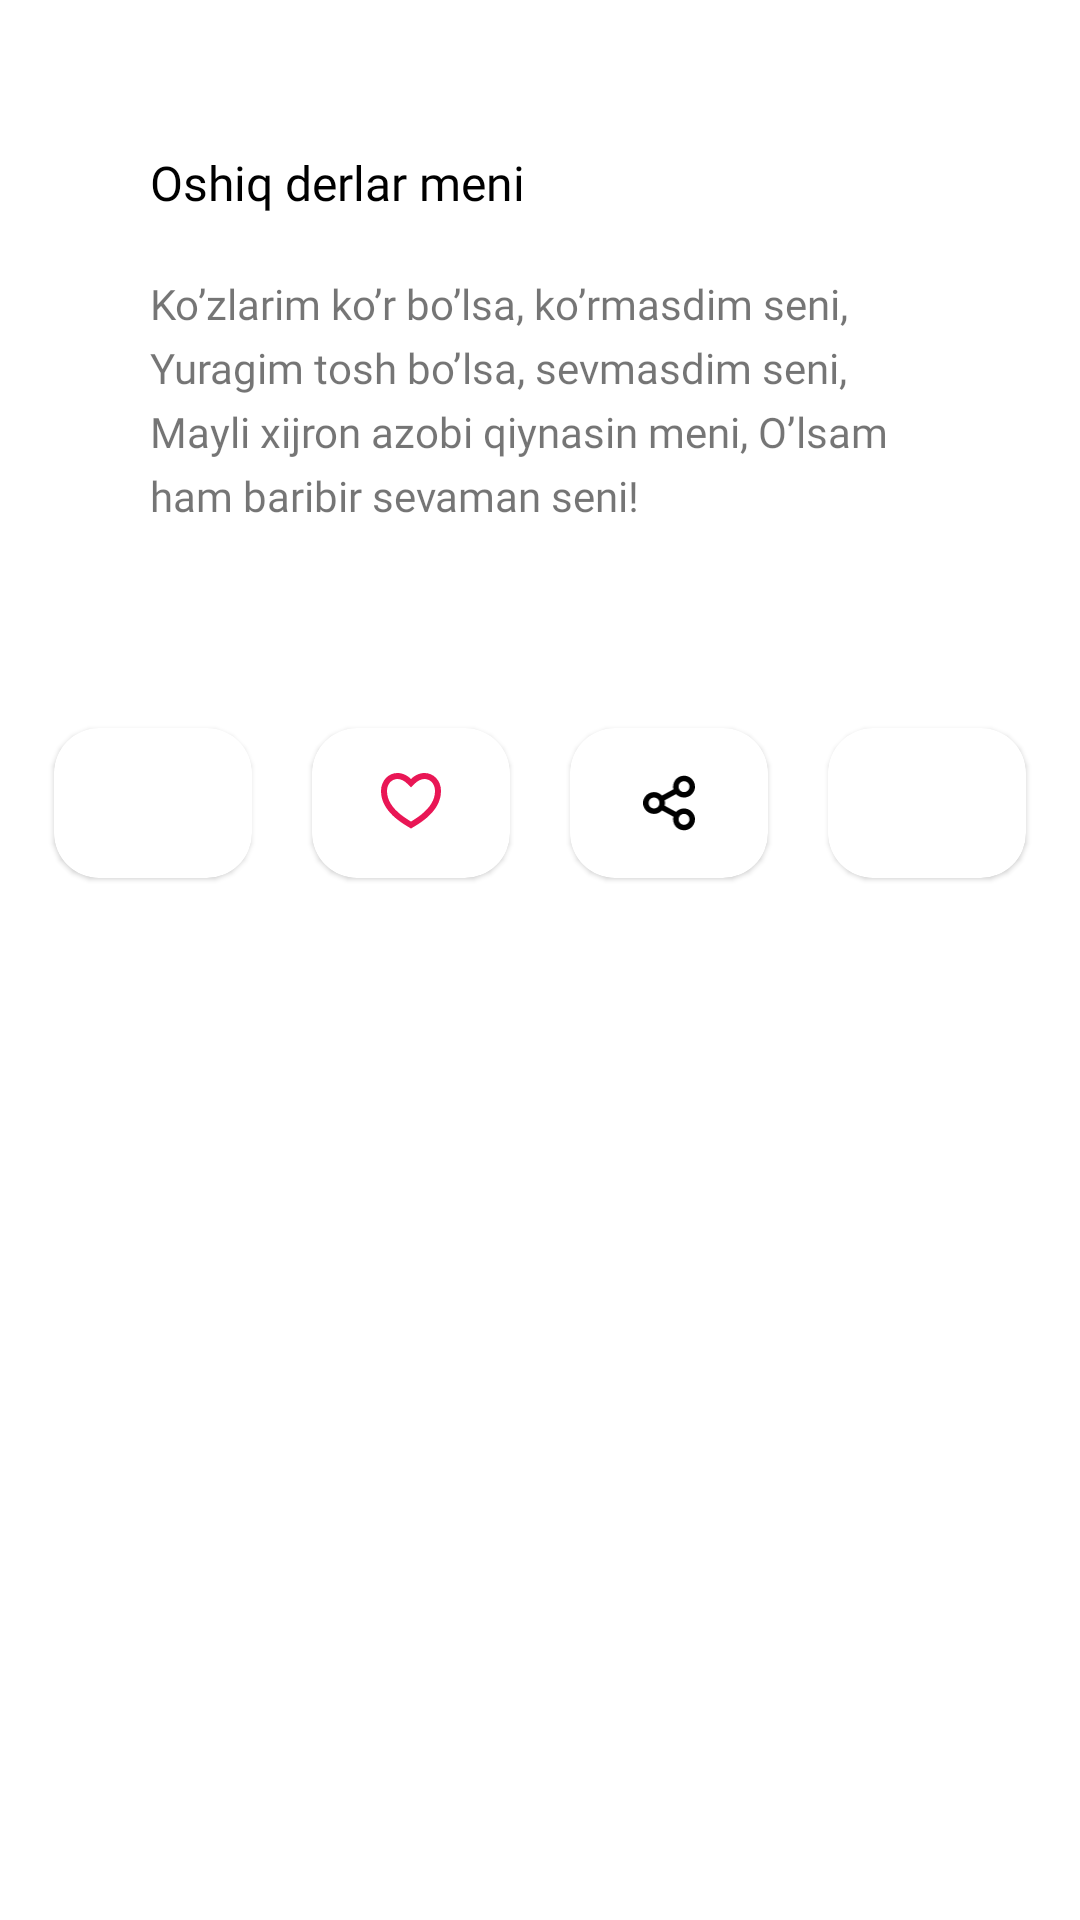

Icon click points for this 1080 x 1920 phone screenshot, format point (x, y):
love: point (411, 801)
share: point (669, 803)
